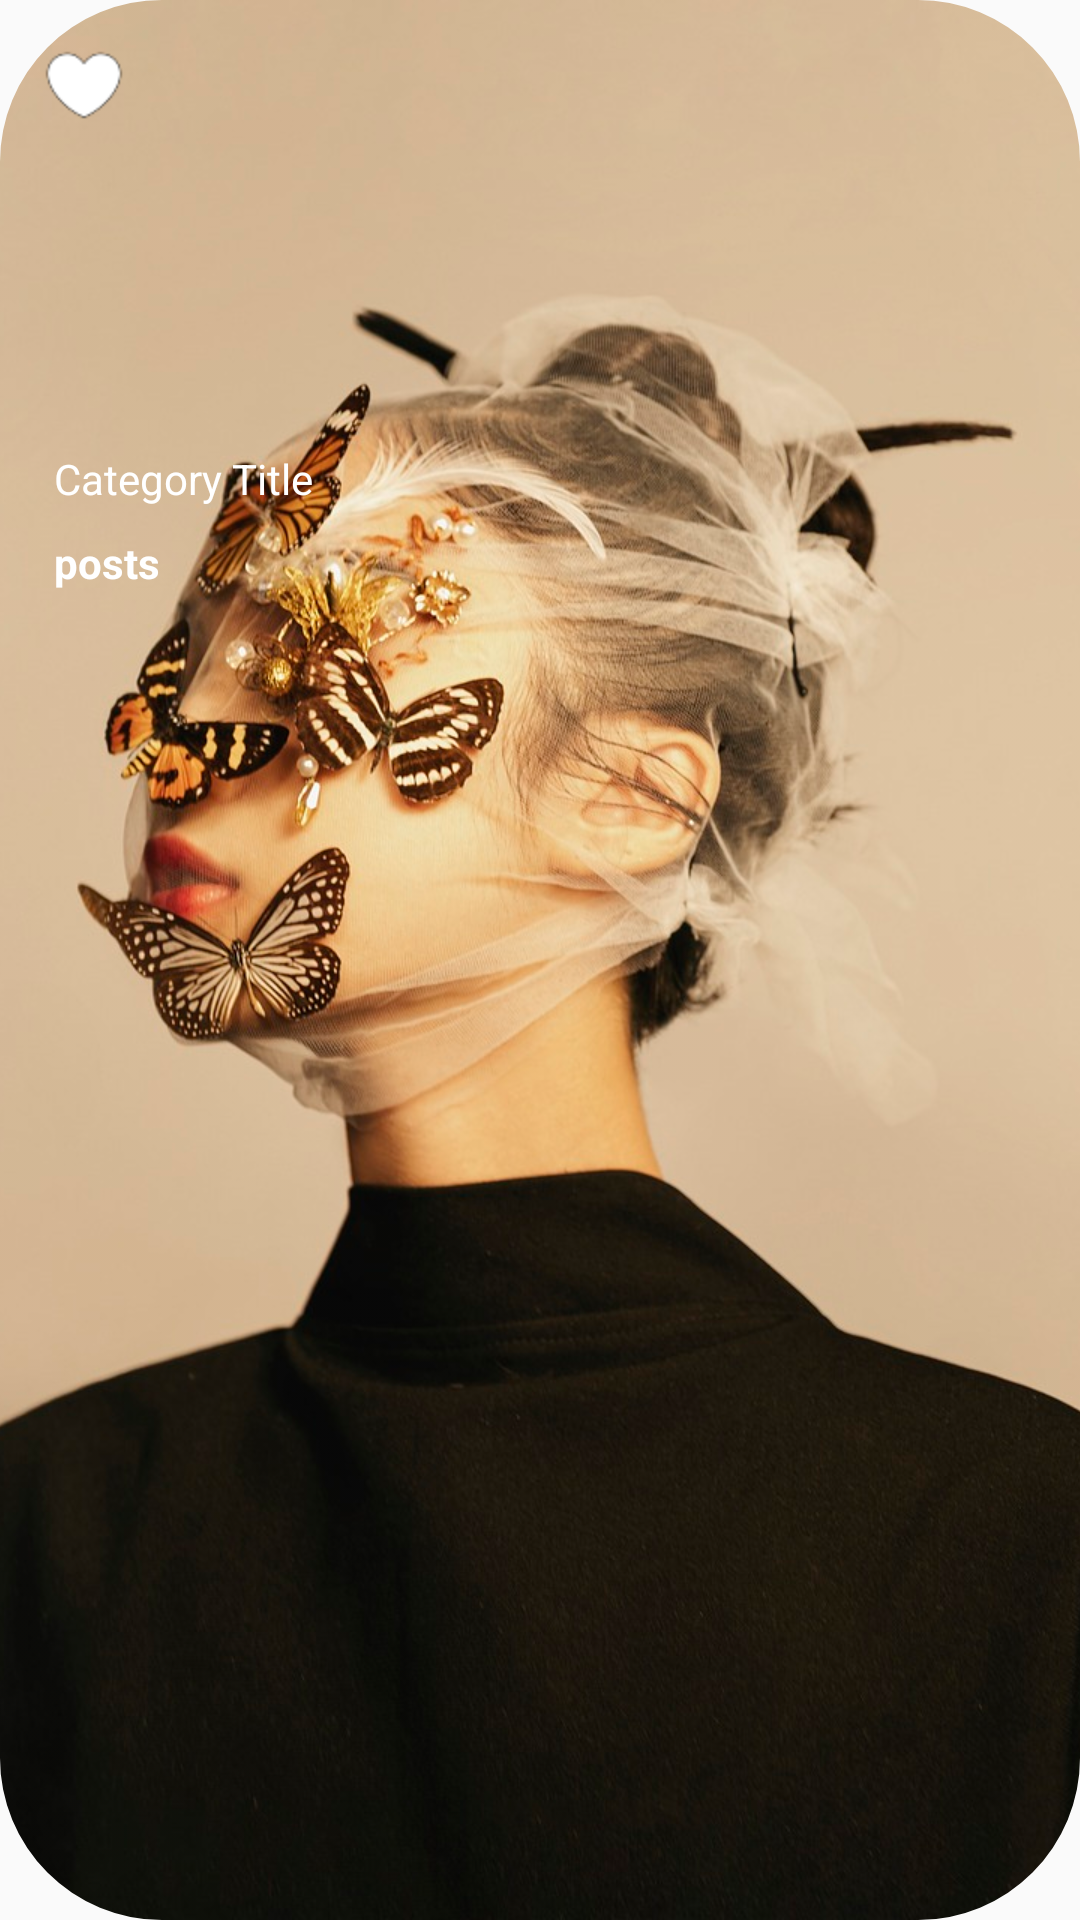

Icons on this 1080px x 1920px Android screen, each with its box as (x1, y1, x2, y2):
Like image: (46, 52, 122, 119)
